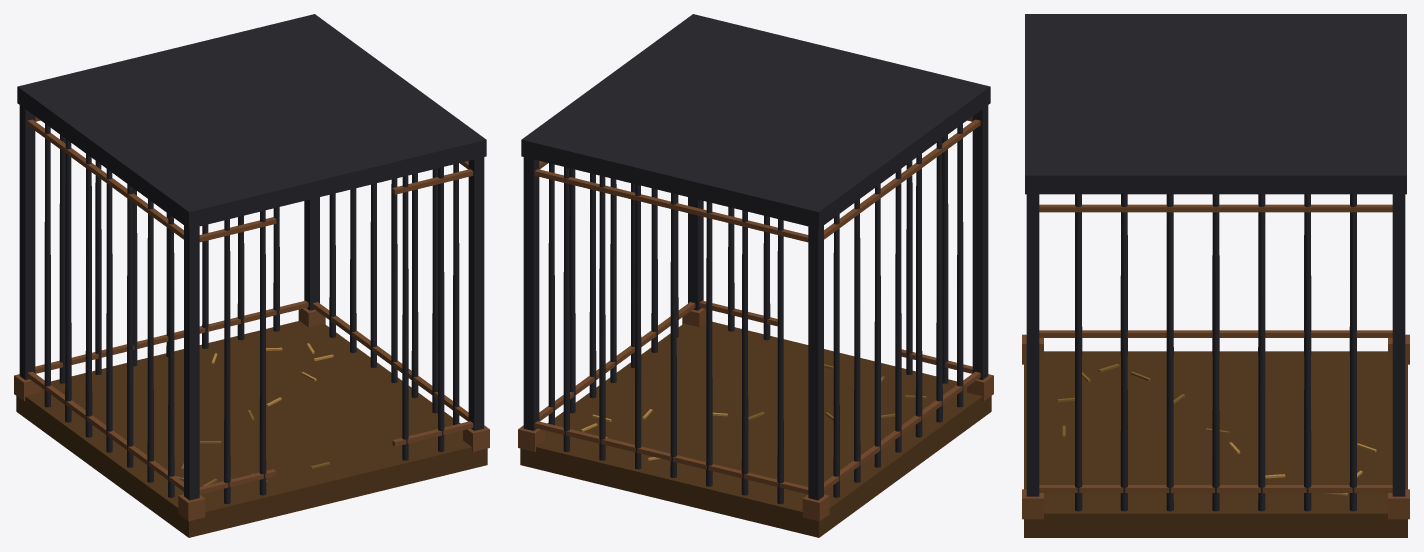
The model's file is mia-cage-open.glb.
3 views of the same model, side by side, from view 1: azimuth 30°, elevation 25°; view 2: azimuth 150°, elevation 25°; view 3: azimuth 270°, elevation 25° (orthographic). The views are drawn at different scales.
Parts seen in each view (by area): view 1: Body_iron, Body_wood, Body_rust; view 2: Body_iron, Body_wood, Body_rust; view 3: Body_iron, Body_wood, Body_rust.
Boxes of the visible parts, x1,y1,x2,y2 form: Body_iron: (17,14,486,504); Body_wood: (16,321,487,537); Body_rust: (14,116,489,521); Body_iron: (521,14,990,504); Body_wood: (520,321,991,537); Body_rust: (518,116,993,521); Body_iron: (1025,14,1406,511); Body_wood: (1024,351,1407,537); Body_rust: (1022,204,1409,519).
Size of the model in its own units: 2.22 by 2.29 by 2.22.
